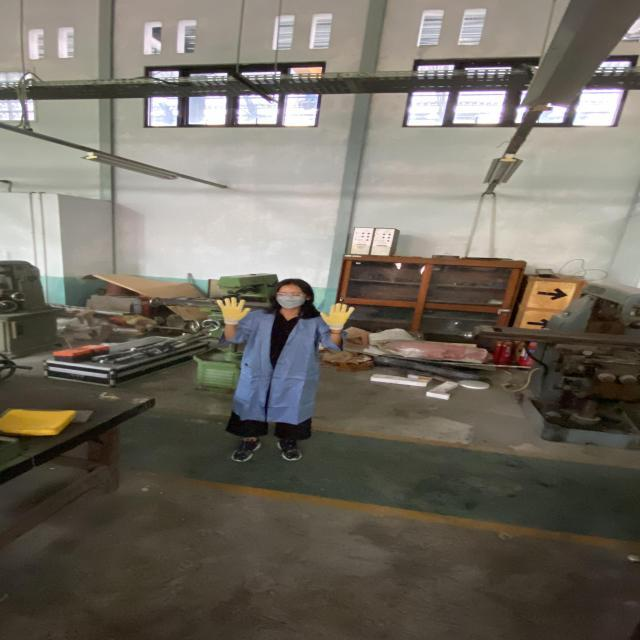glasses: (273, 290, 308, 298)
